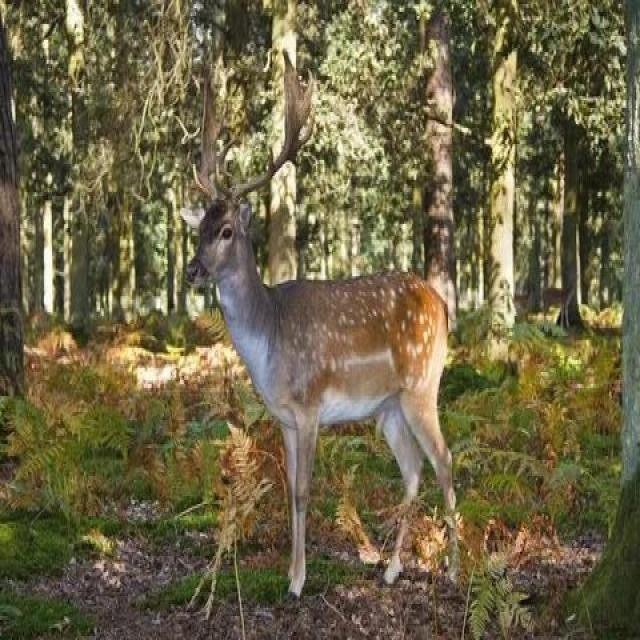deer: (138, 163, 506, 568)
